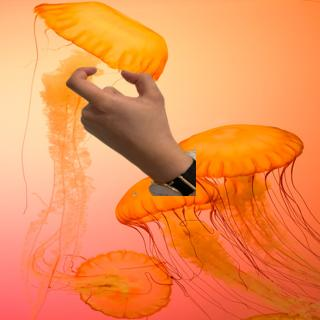HATE: (63, 62, 182, 169)
